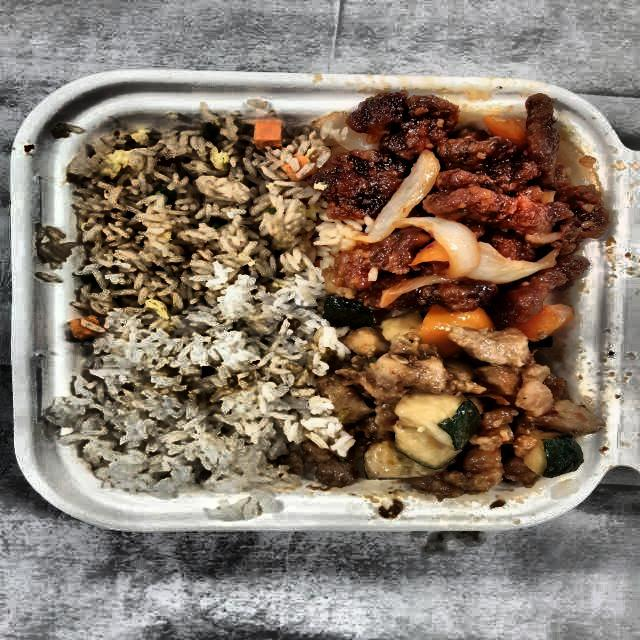Food: (308, 91, 601, 305), (319, 307, 599, 497), (71, 115, 321, 311), (65, 310, 310, 494)
